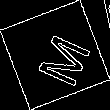M_NW: (23, 23, 87, 87)
